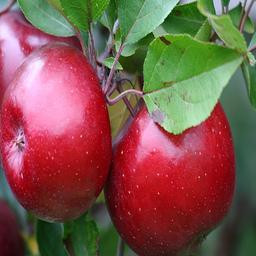apple: (104, 104, 236, 256), (1, 43, 112, 223)
